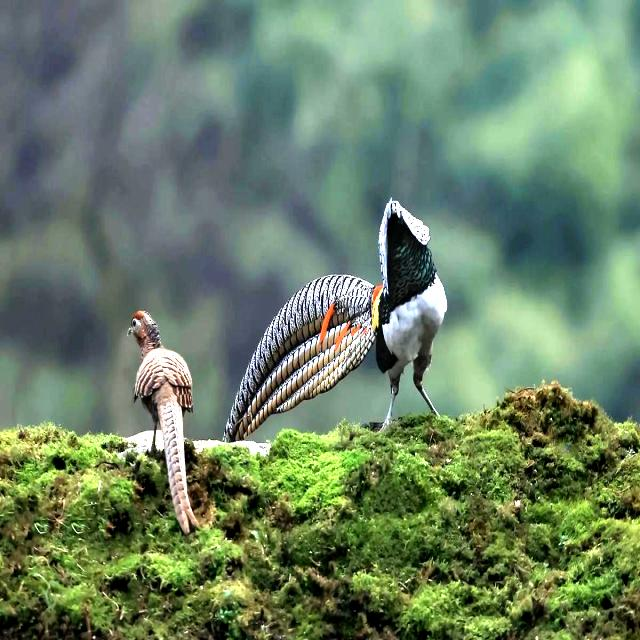Chrysolophus amherstiae: (223, 274, 379, 441)
